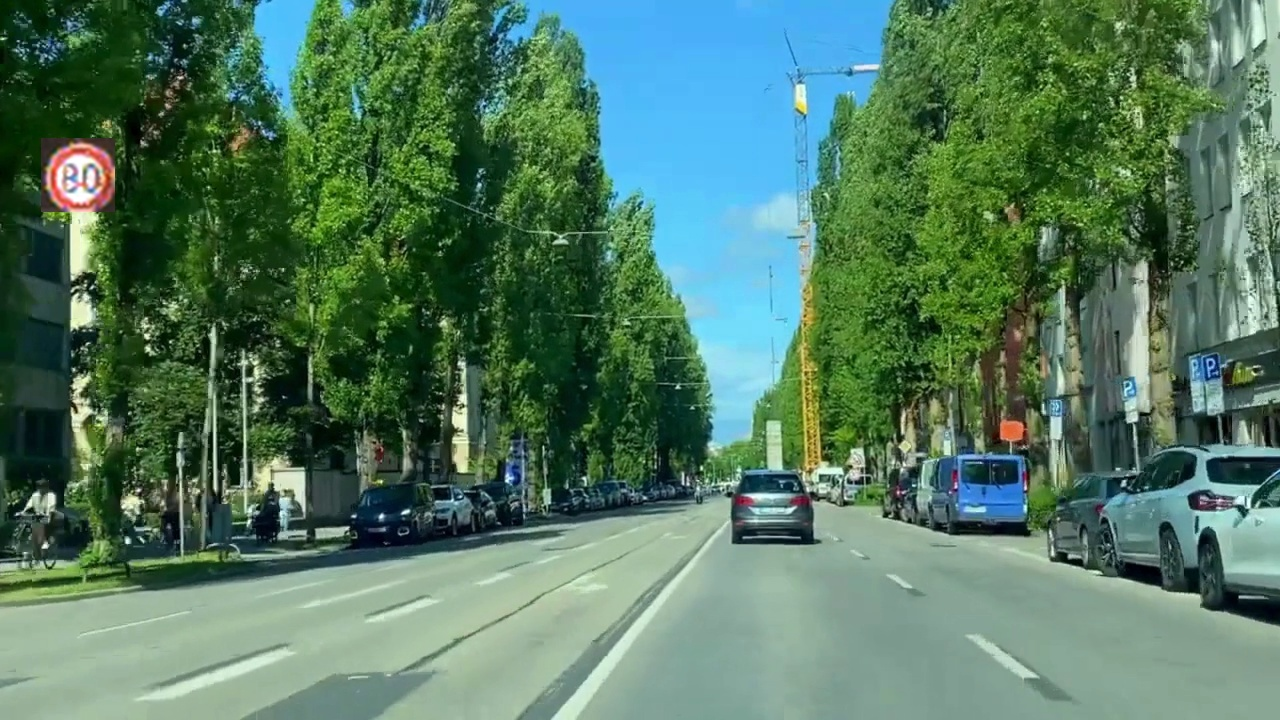Speed 80: (41, 138, 115, 212)
